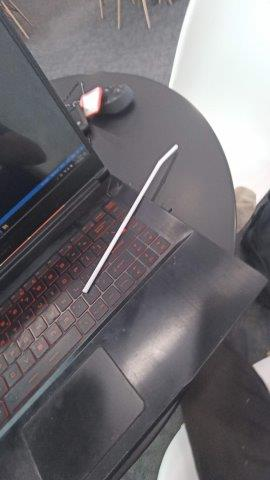sedotan: (83, 145, 178, 293)
